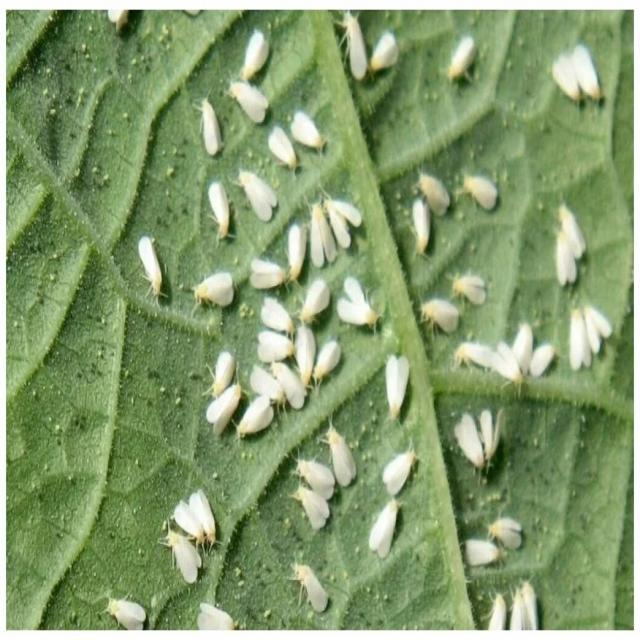Whitefly: (93, 21, 429, 628), (450, 408, 558, 628), (420, 270, 550, 398), (548, 188, 628, 380), (396, 159, 509, 260), (336, 9, 402, 98), (548, 38, 610, 112), (124, 225, 174, 314), (438, 31, 488, 91)
